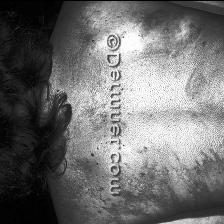Toxin: (173, 27, 224, 191), (56, 36, 104, 198), (127, 54, 171, 203)
